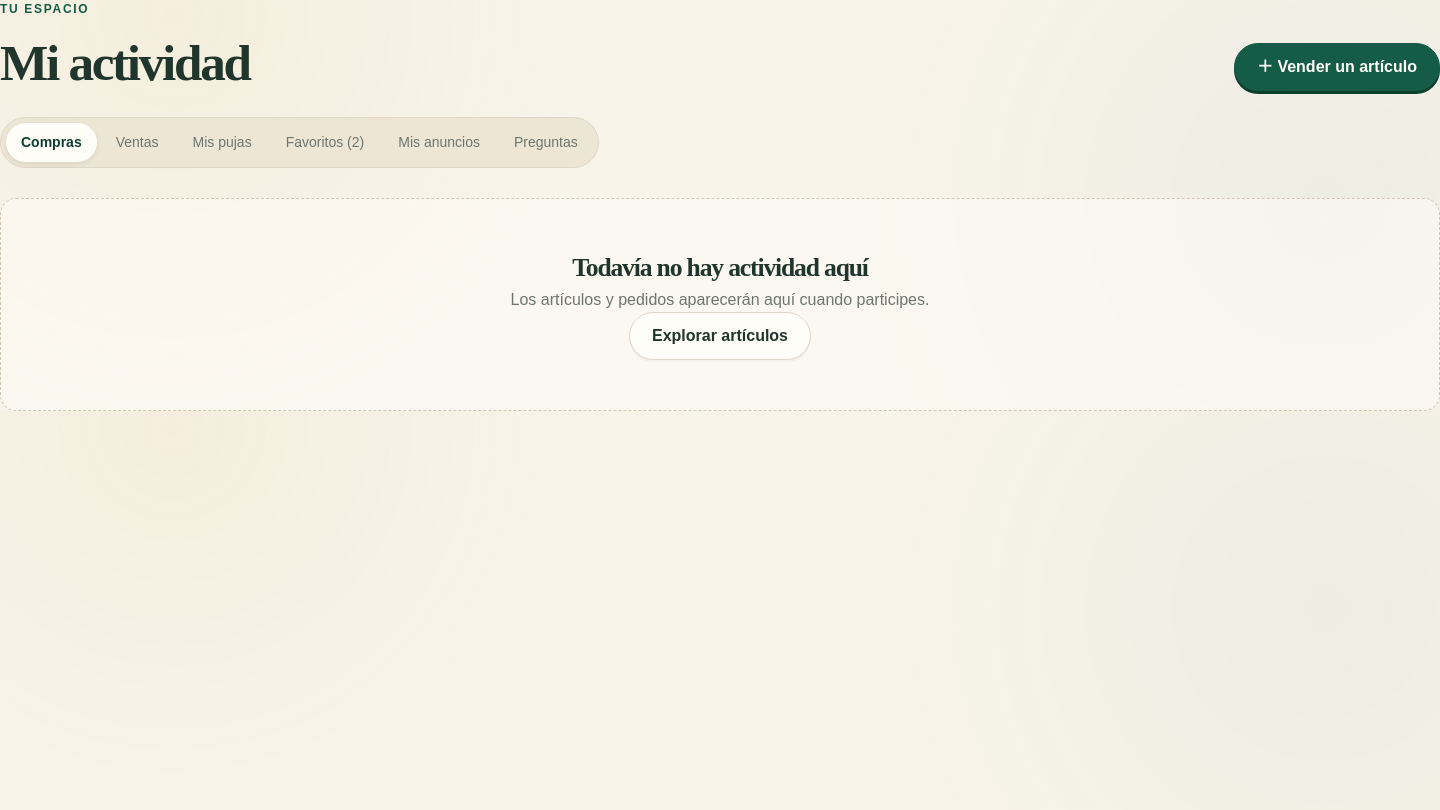
My Products Favorites Tab (LP-FEAT-018) › allows removing an item from favorites directly (AC-01)
Click the button "Favoritos (2)" at (325, 143), box [271, 123, 379, 162]
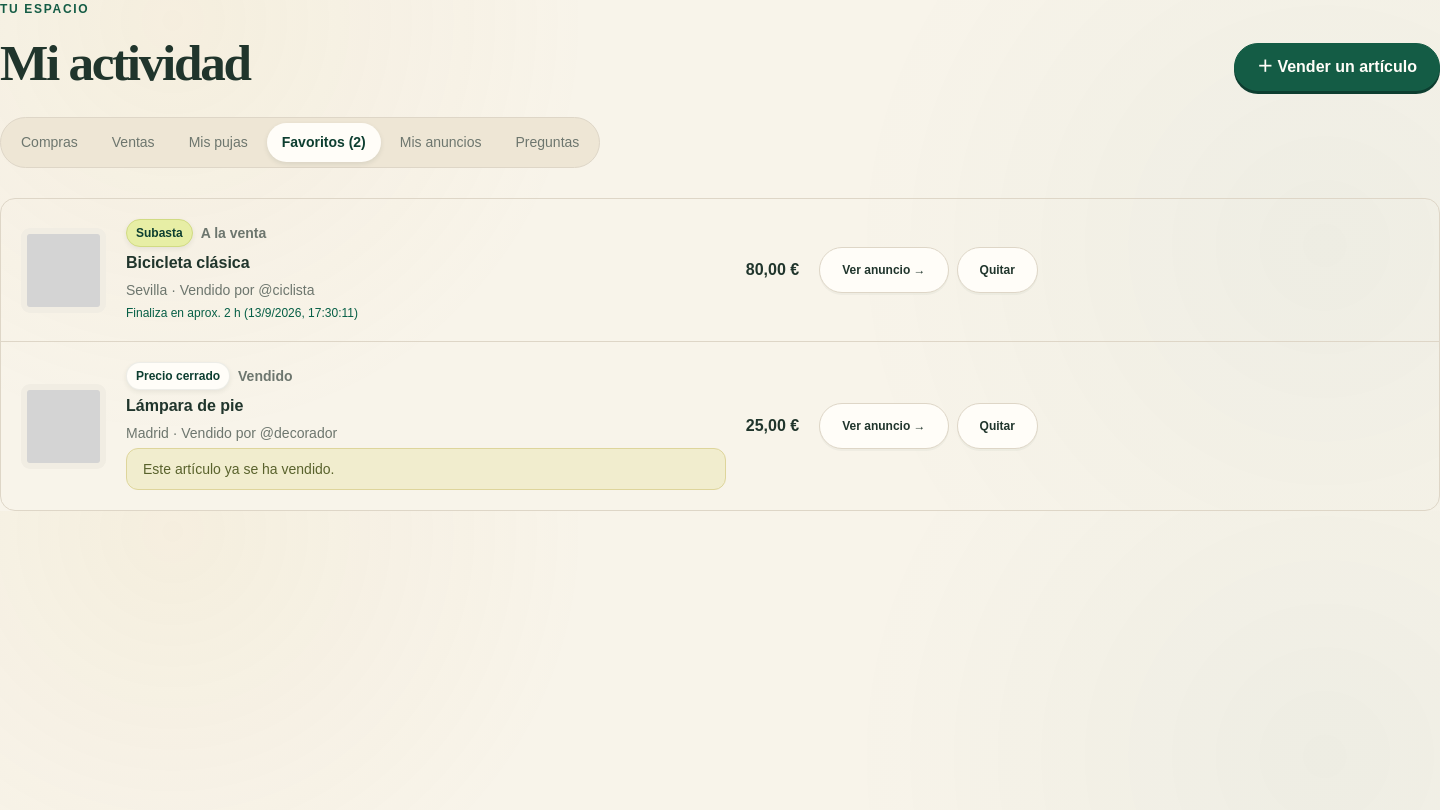
Expected: the number of buttons "Quitar" is 2
Click the button "Quitar" in the row of "80,00 €" at (997, 270), box [957, 247, 1038, 293]
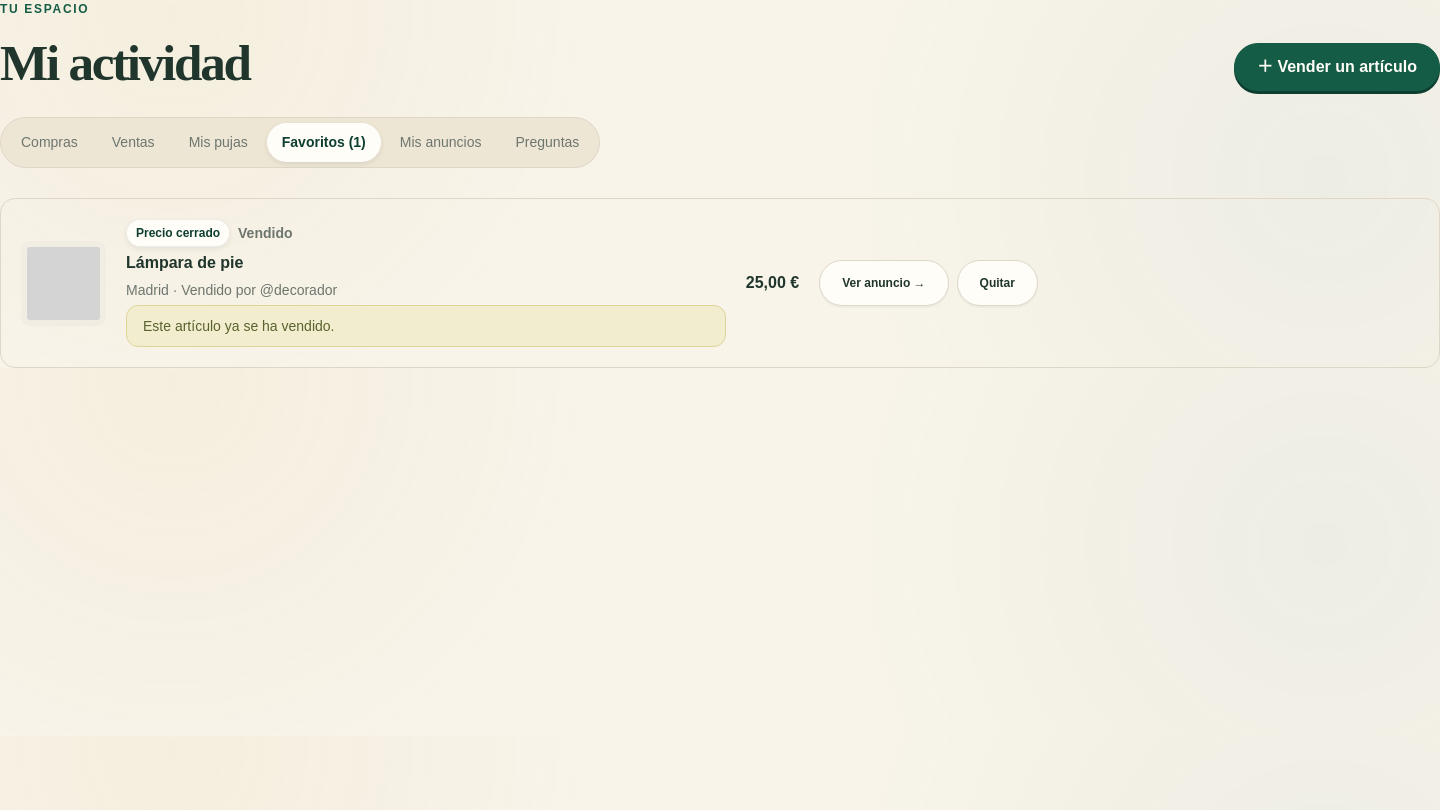
Expected: the link "Lámpara de pie" is shown, [126, 254, 243, 271]
Expected: the link "Bicicleta clásica" is gone
